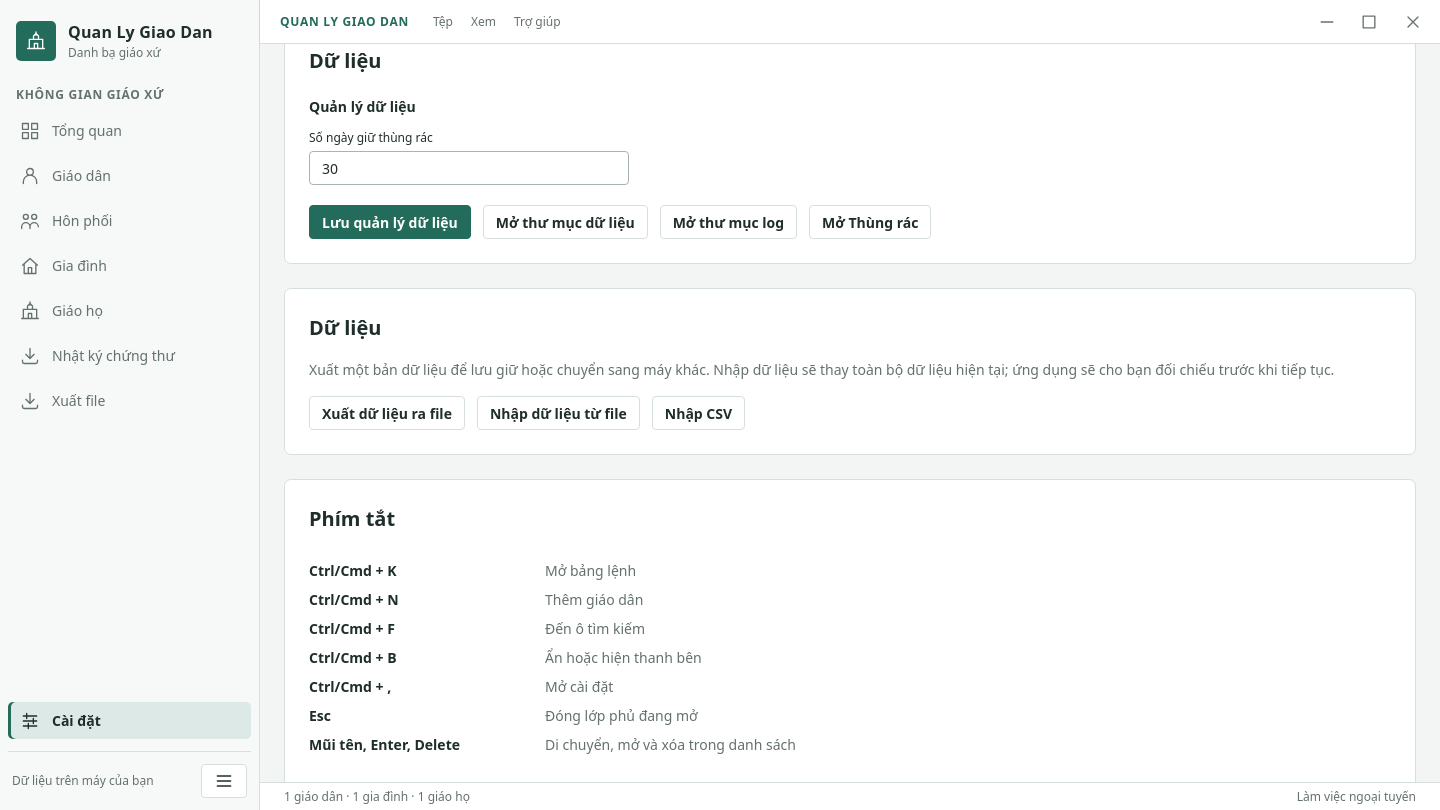
Khung ứng dụng qua API preload › cấp lại mã khi nhập file backup bằng mã xác nhận đã hết hạn
(page scrolled)
Click the button "Nhập dữ liệu từ file" at (558, 413), box [477,396,640,430]
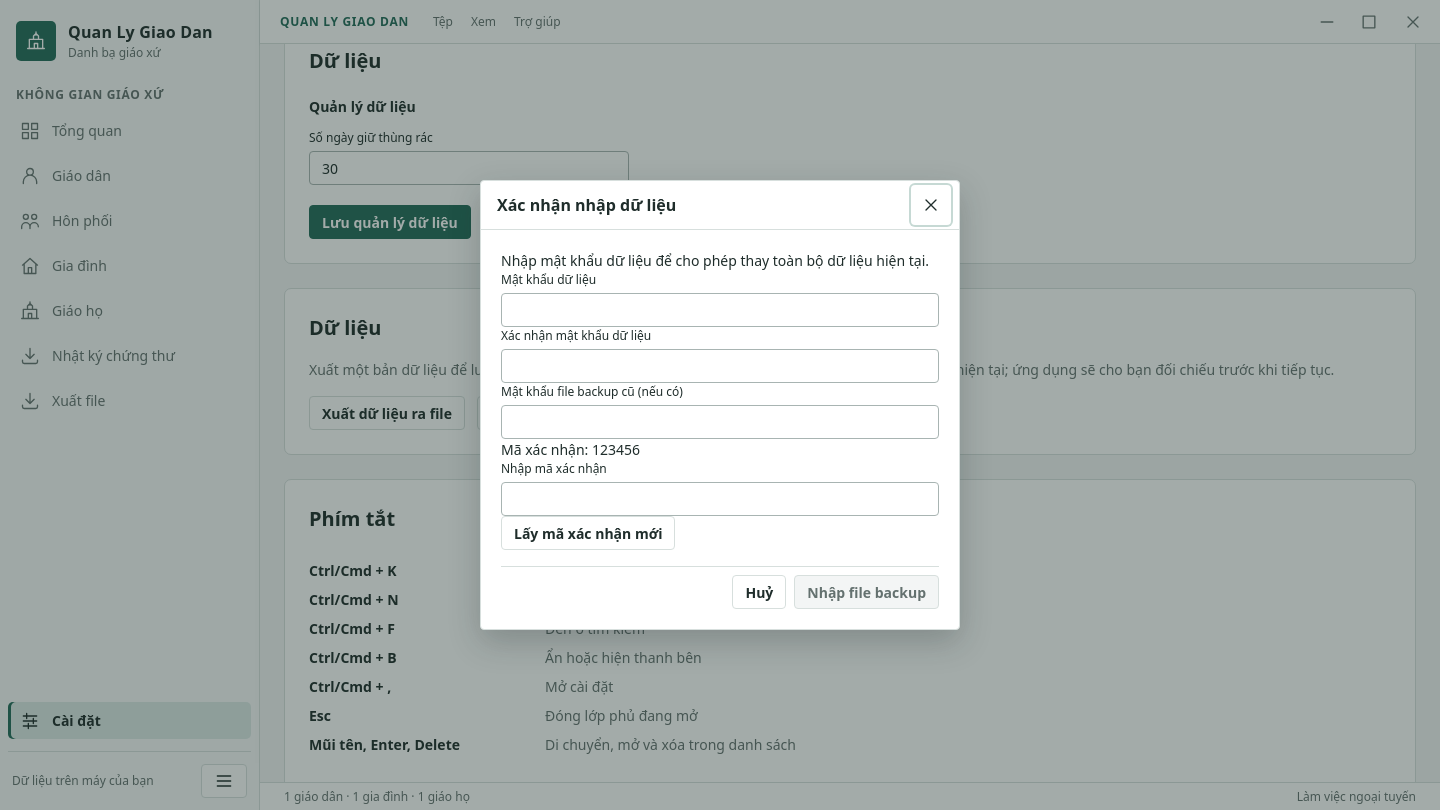
Type "mat-khau-du-lieu-2026" into the password field labelled "Mật khẩu dữ liệu" at (720, 310), box [501,293,939,327]
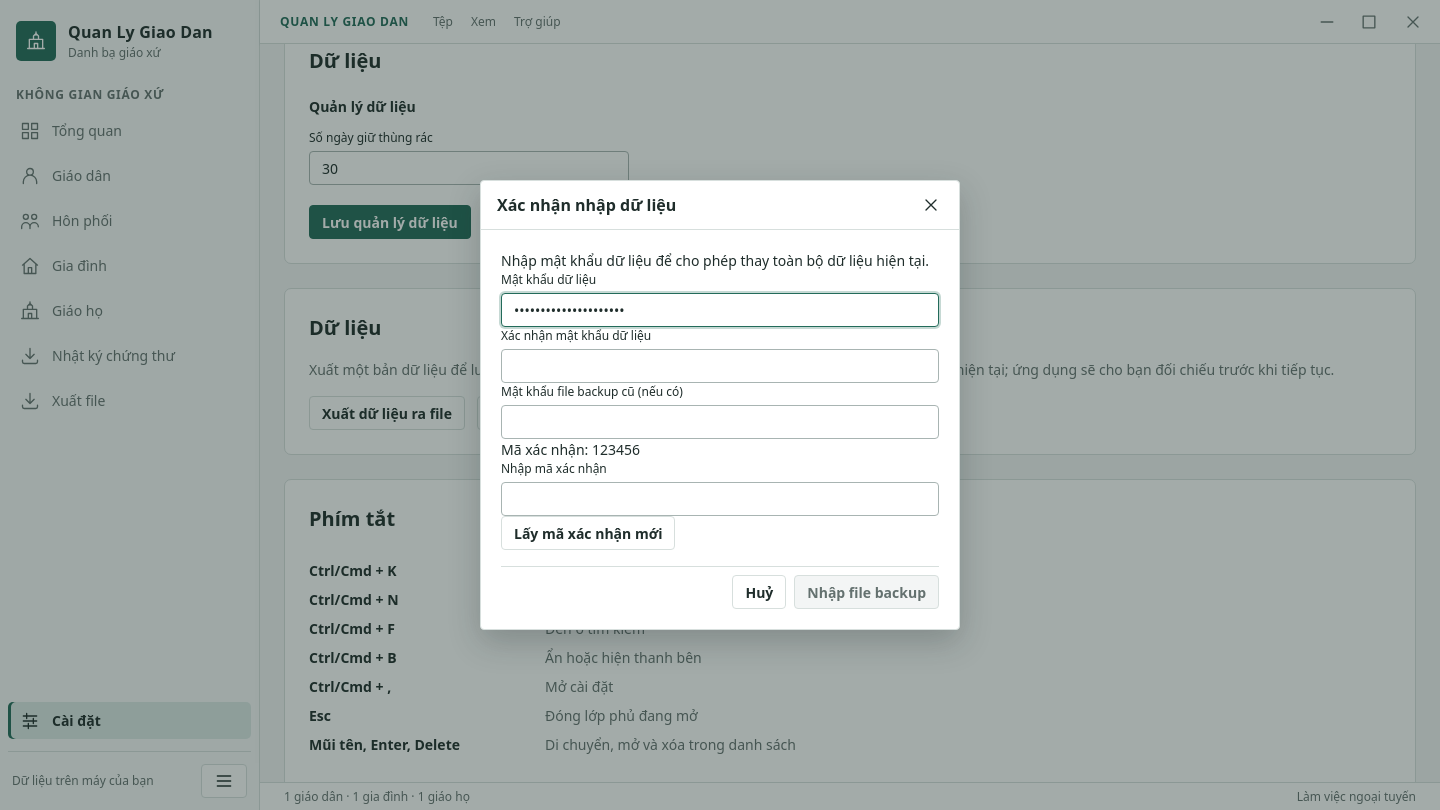
Type "mat-khau-du-lieu-2026" into the password field labelled "Xác nhận mật khẩu dữ liệu" at (720, 366), box [501,349,939,383]
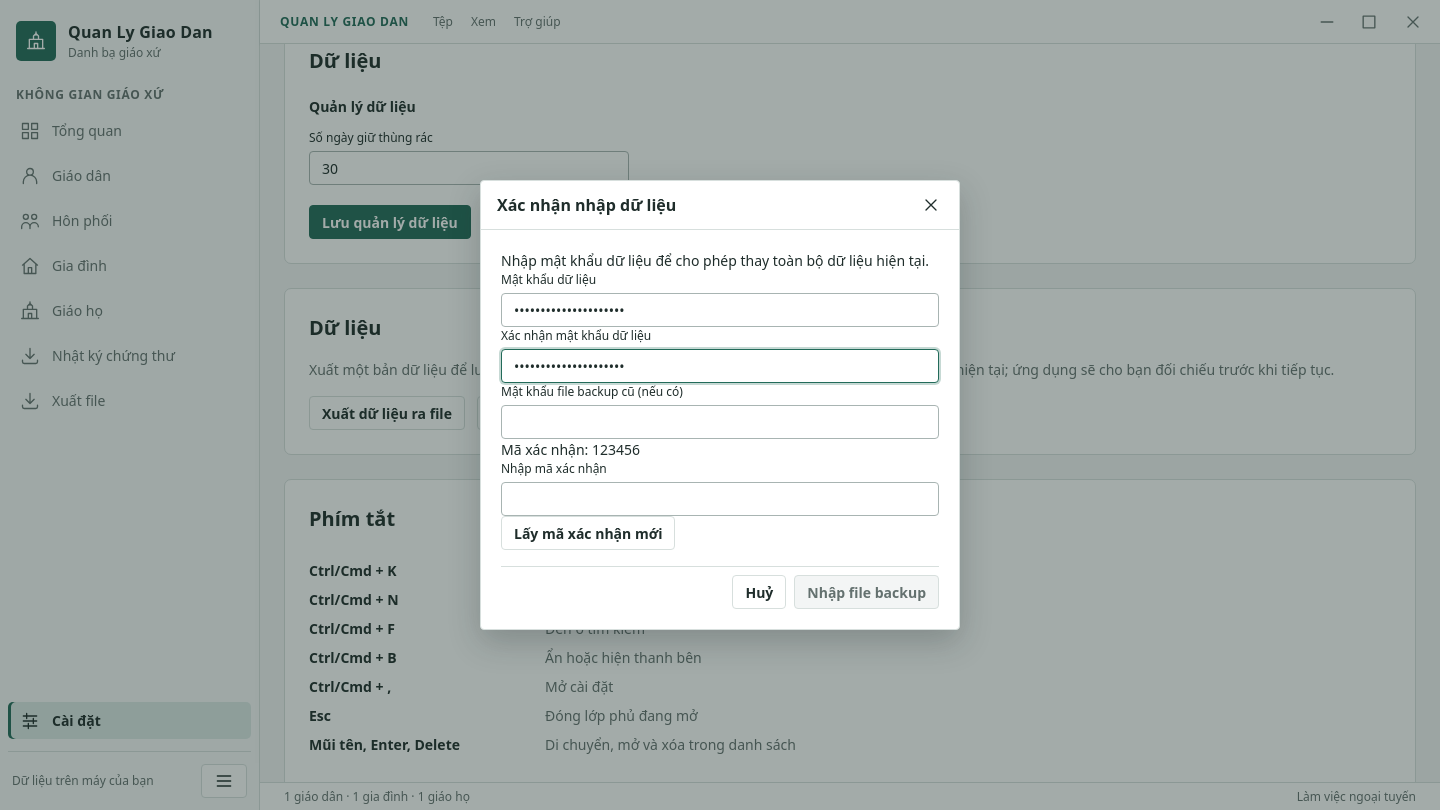
Type "123456" into the field labelled "Nhập mã xác nhận" at (720, 499), box [501,482,939,516]
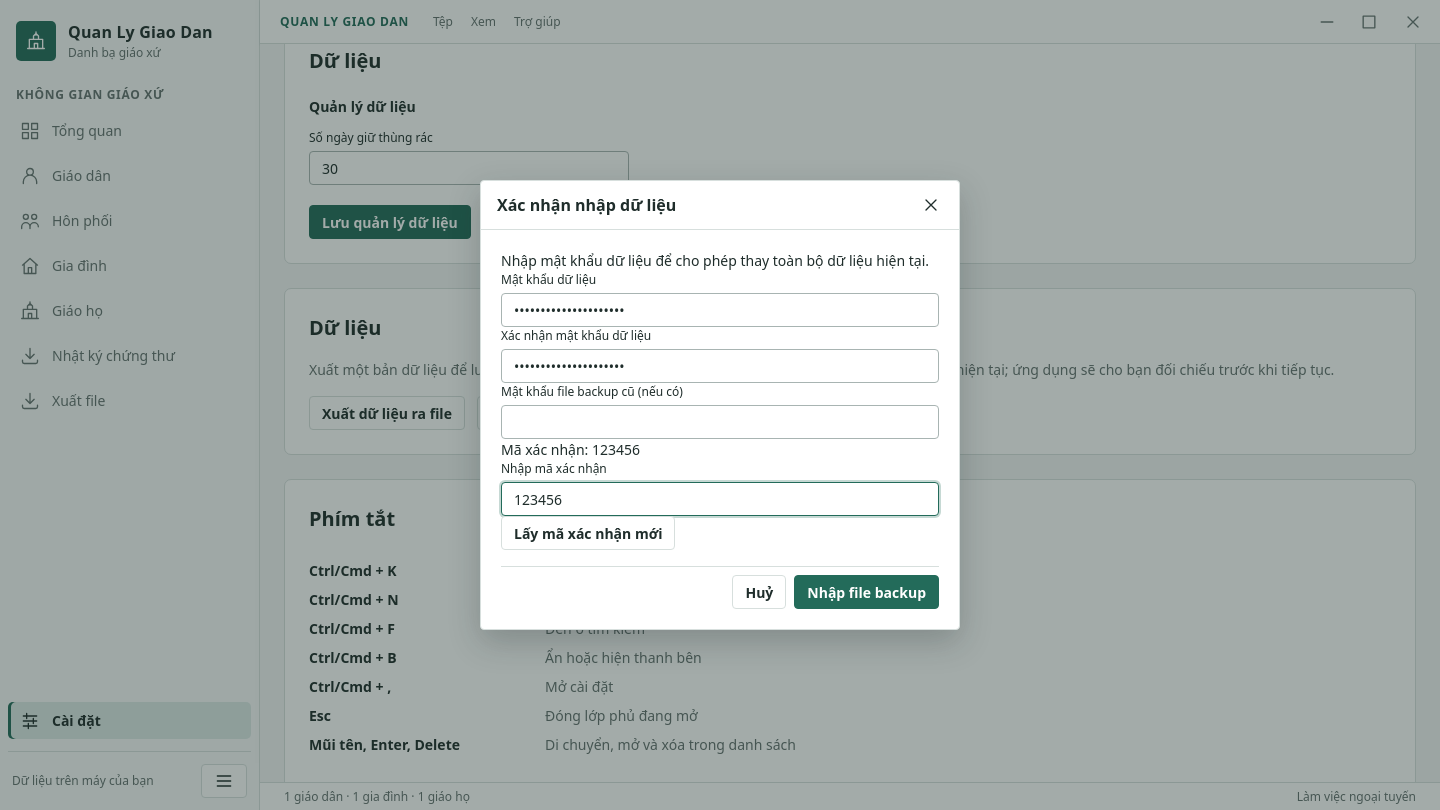
Click the button "Nhập file backup" at (867, 592), box [794,575,939,609]
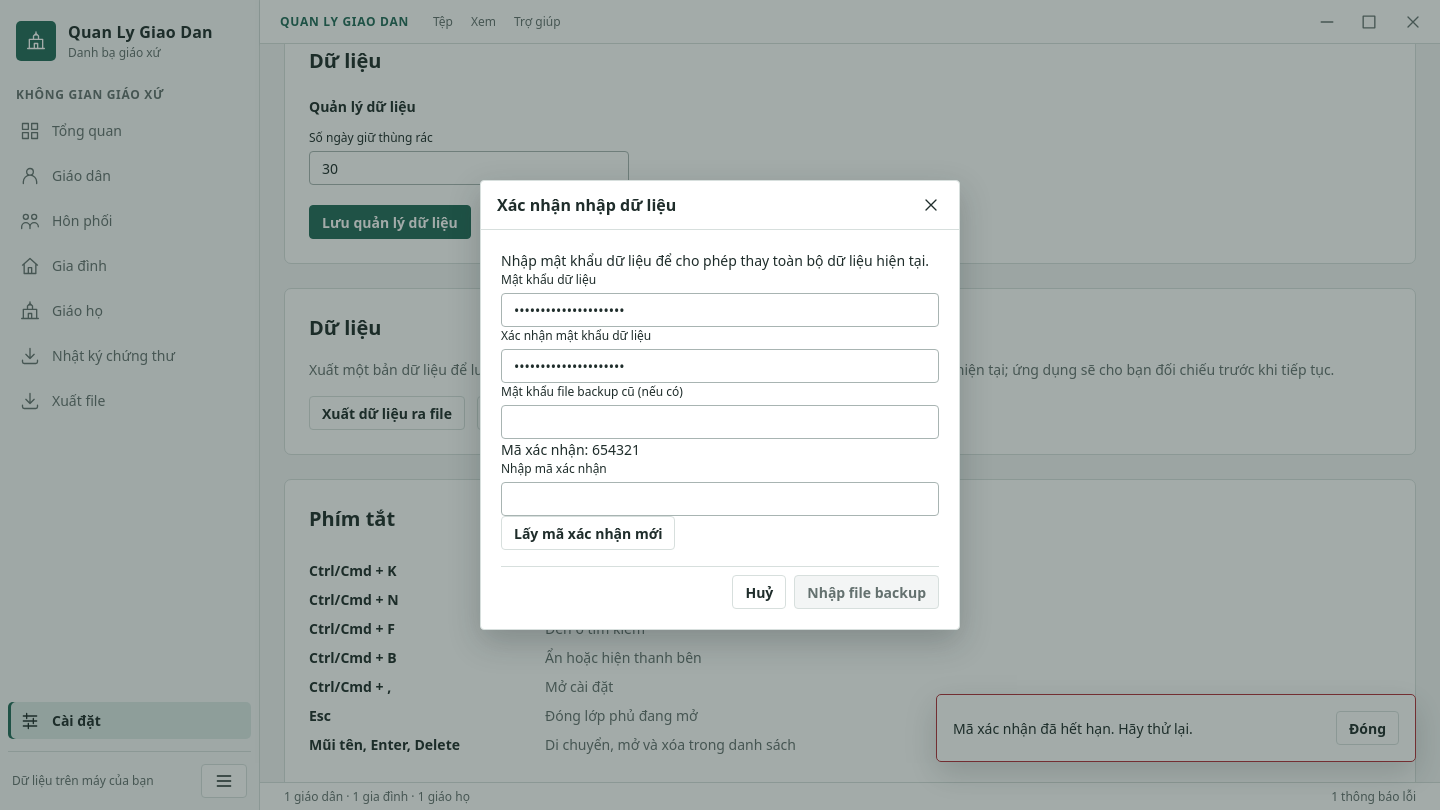
Check: the text "Mã xác nhận: 654321" is shown, box [501,440,640,459]
Check: the field labelled "Nhập mã xác nhận" is empty, box [501,482,939,516]
